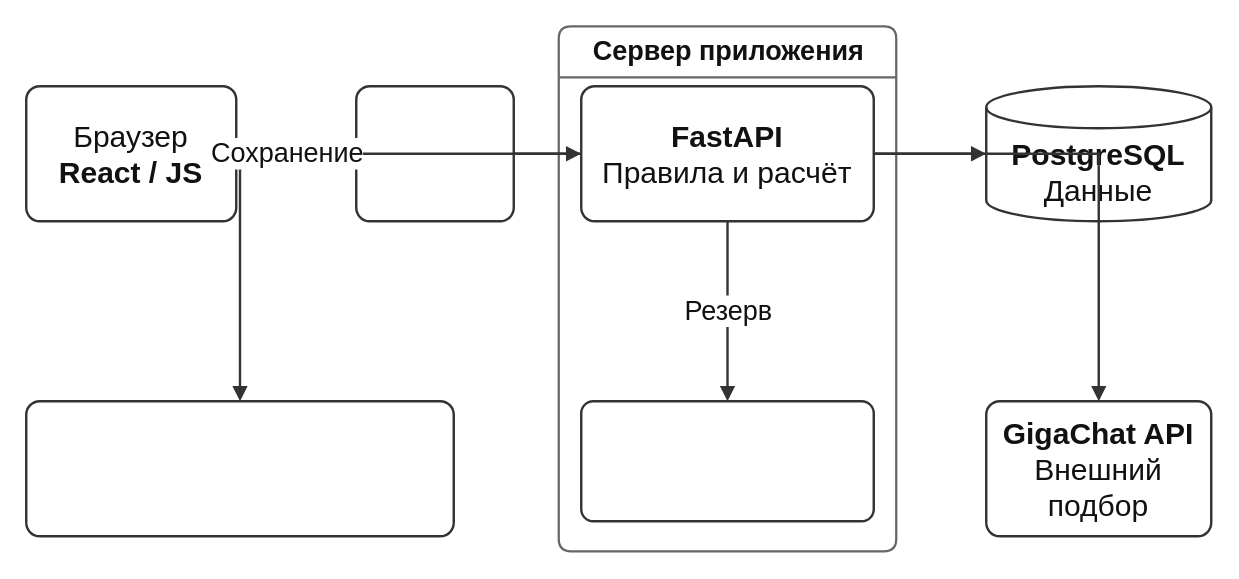
The diagram is 1239 pixels wide and 579 high, and some of its shapes have lost their labels. The shapes that lost their labels are listed below. From the top down, each one's centre as x and y in pixels, then its label:
At pixel 434 153: "Nginx".
At pixel 239 468: "Файловое хранилище Отчёты и копии БД".
At pixel 726 460: "LocalGenerator Локальный подбор".
